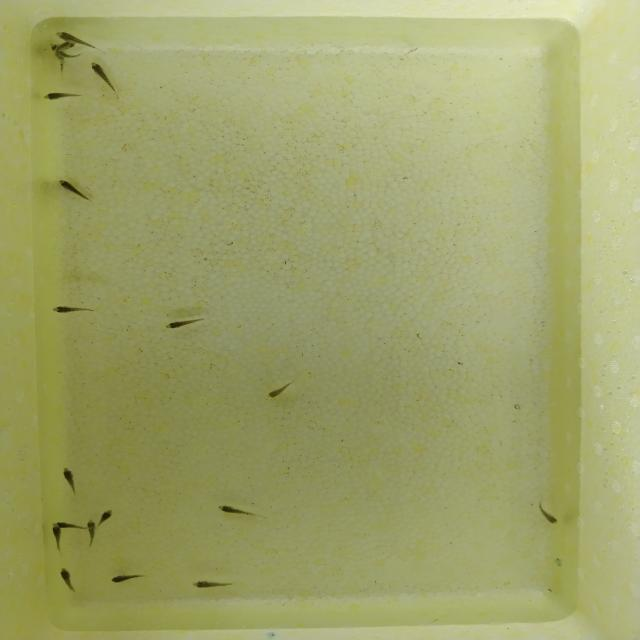fingerling: (53, 177, 97, 206), (152, 316, 213, 335), (47, 297, 97, 320), (88, 61, 120, 95), (262, 380, 294, 406), (534, 500, 564, 524), (61, 464, 79, 502), (212, 504, 265, 516), (54, 29, 86, 45), (107, 572, 139, 588), (54, 566, 78, 587), (45, 90, 79, 102), (189, 580, 236, 588), (98, 507, 123, 521), (55, 519, 81, 530), (54, 41, 79, 52), (83, 517, 99, 534), (49, 524, 64, 540)
